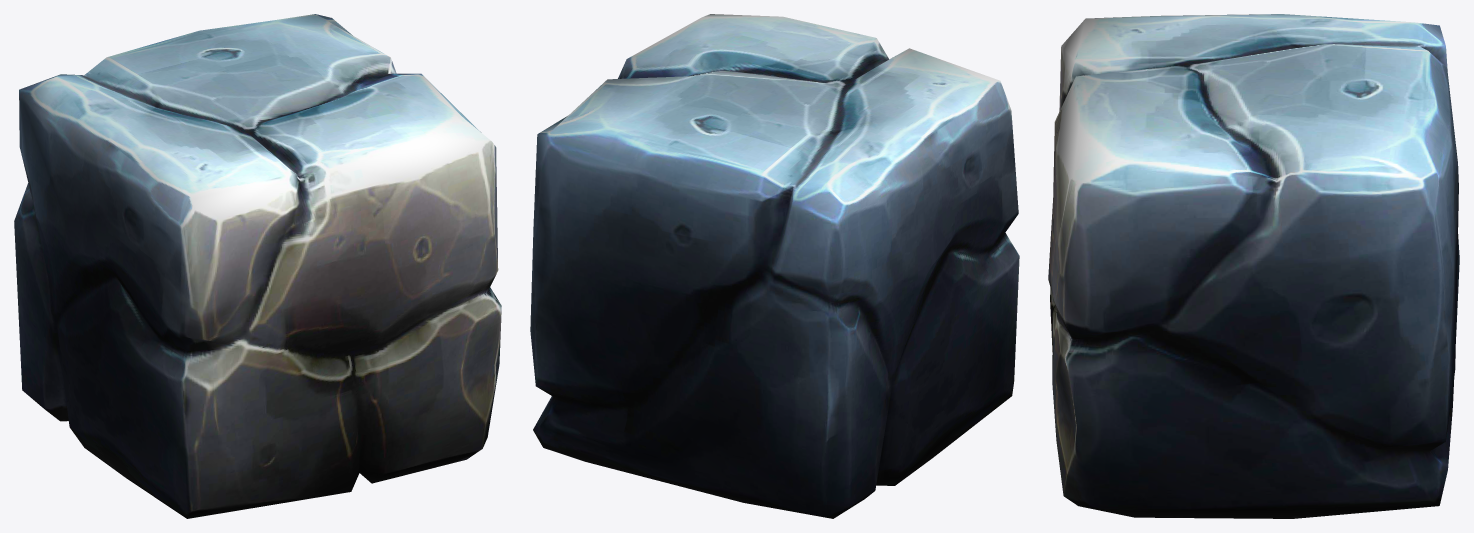
The model's file is block.obj.
3 renders of one model, left to right at view 1: azimuth 30°, elevation 25°; view 2: azimuth 150°, elevation 25°; view 3: azimuth 270°, elevation 25°, orthographic. The views are drawn at different scales.
Visible parts, largest first — view 1: defaultMaterial; view 2: defaultMaterial; view 3: defaultMaterial.
Boxes of the visible parts, x1=… form: defaultMaterial: x1=14, y1=14, x2=501, y2=518; defaultMaterial: x1=530, y1=14, x2=1019, y2=518; defaultMaterial: x1=1048, y1=14, x2=1459, y2=518.
Size of the model in its own units: 210 by 209 by 209.
1 material, 1 textured.
